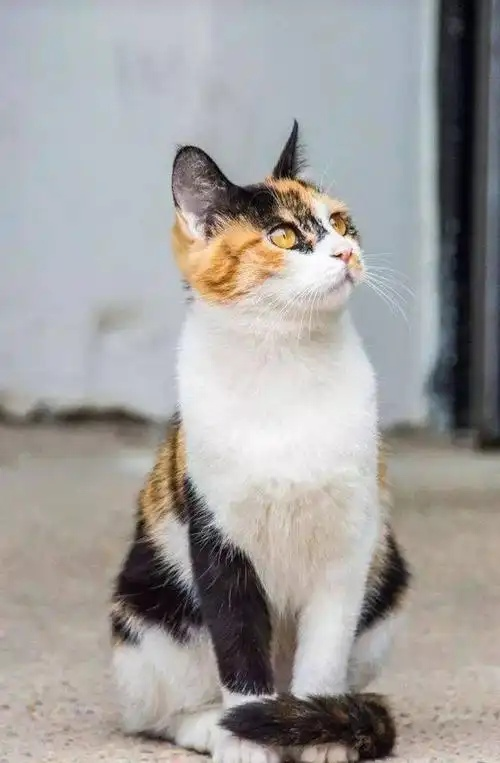三花猫: (138, 121, 406, 594), (112, 416, 408, 755)
